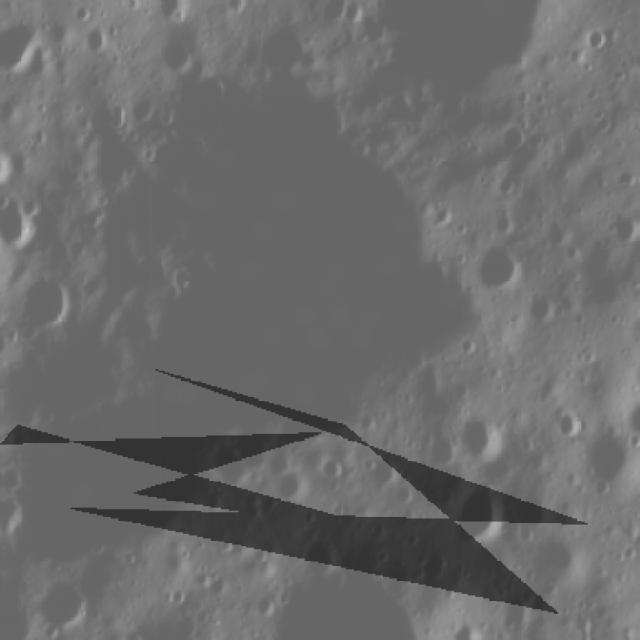crater: (17, 275, 77, 339), (458, 412, 512, 471), (459, 492, 508, 551), (1, 195, 53, 247), (32, 577, 82, 629), (475, 242, 527, 290), (303, 522, 342, 578), (160, 39, 200, 84), (575, 19, 610, 64), (549, 406, 589, 442)
